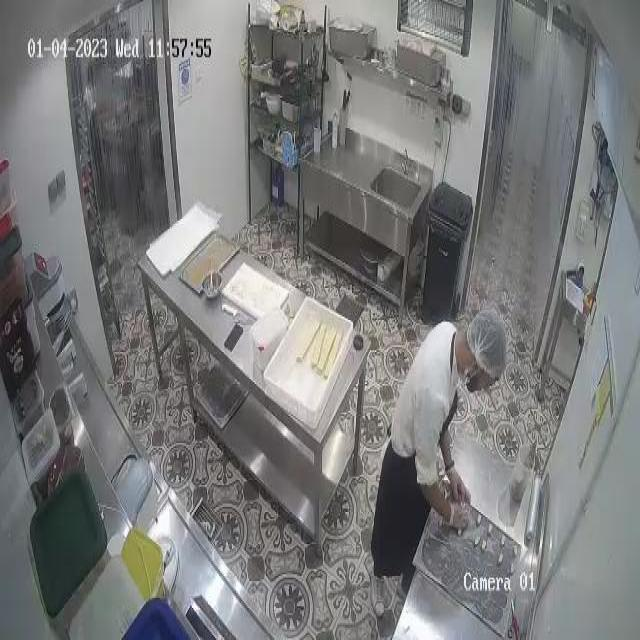hairnet: (468, 310, 506, 379)
